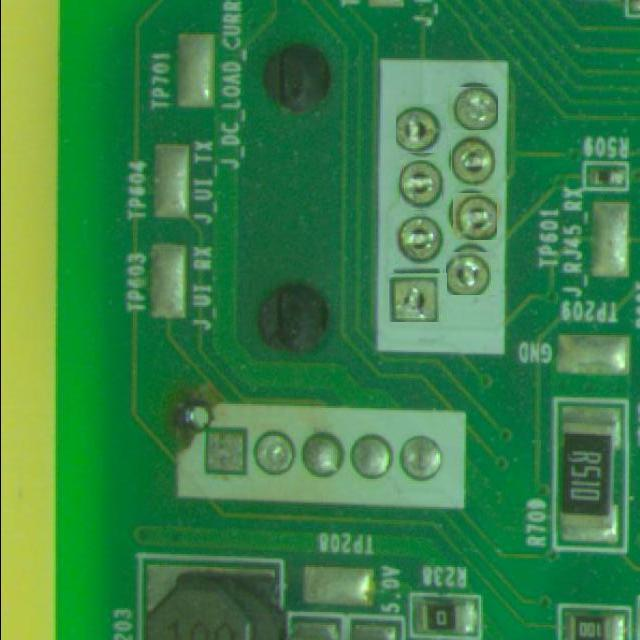lack_of_part: (392, 270, 446, 324), (394, 214, 446, 264), (396, 104, 446, 153), (451, 132, 495, 187), (449, 249, 497, 298), (450, 85, 497, 132), (452, 192, 497, 240), (400, 160, 442, 210)
